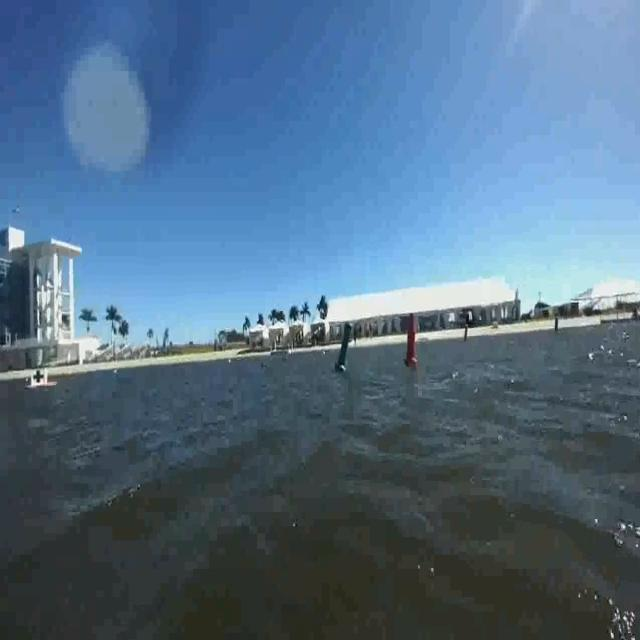green-column-buoy: (336, 321, 355, 372)
red-column-buoy: (406, 314, 422, 368)
